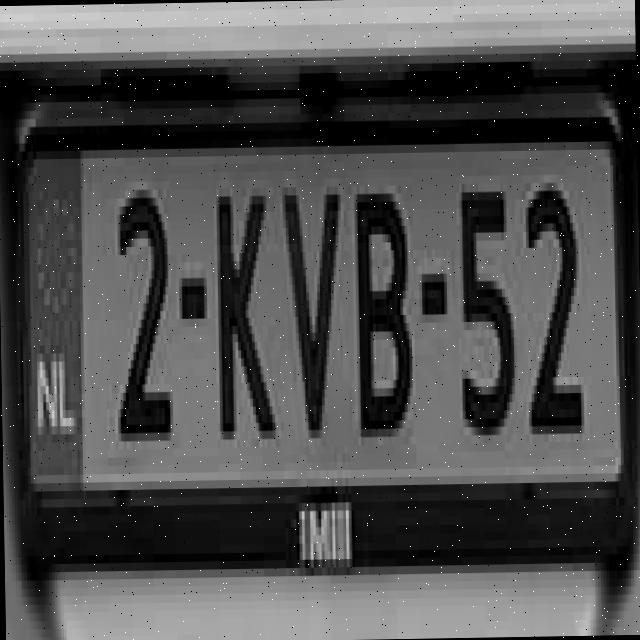EU: (20, 127, 627, 513)
Pays-Bas: (29, 155, 86, 498)
